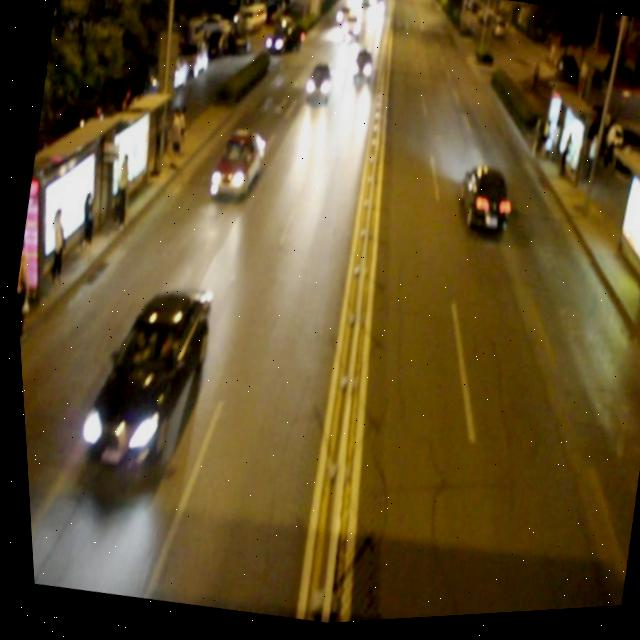car: (62, 270, 218, 492), (205, 123, 270, 206), (449, 162, 515, 242), (302, 60, 336, 105), (348, 48, 375, 85)
